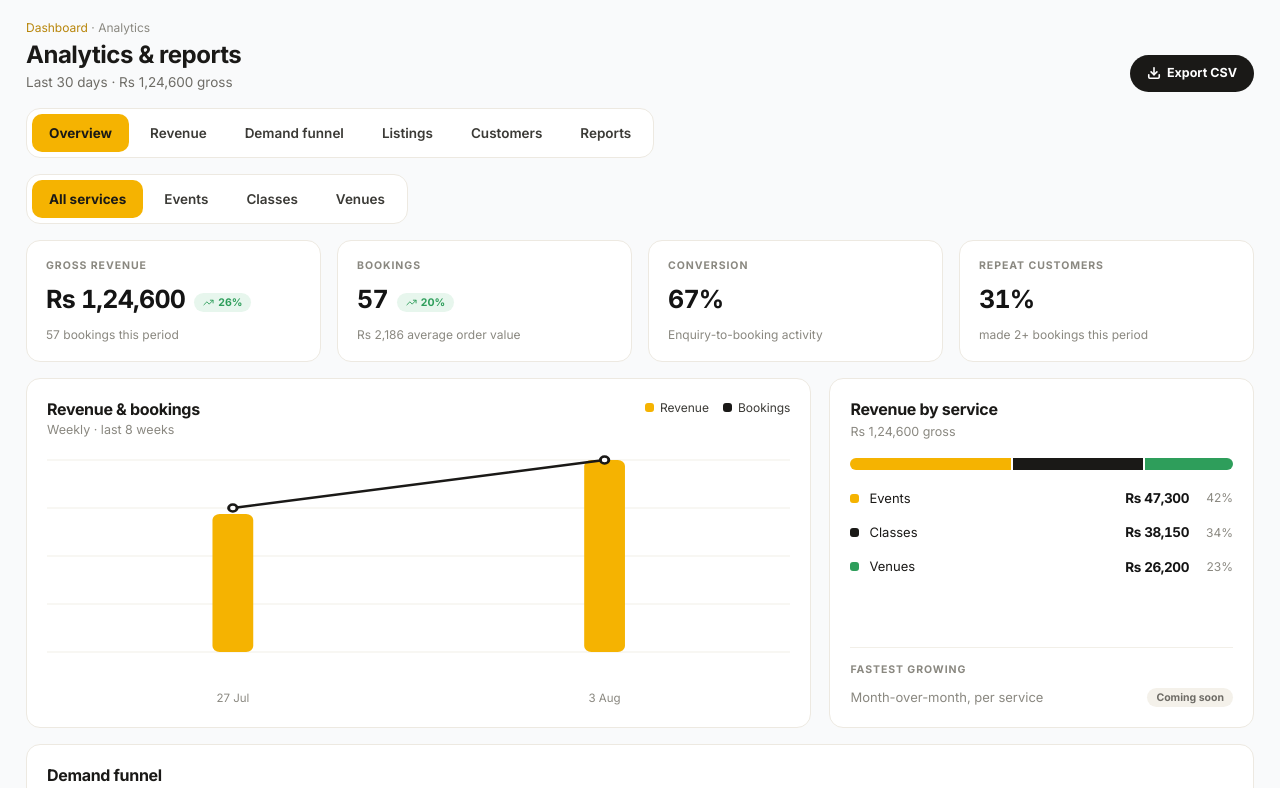
Test: Analytics — Overview tab (stats/overview-all/) › hides the literal conversion rate on the Events scope instead of showing a permanent 0%
This screenshot has width=1280, height=788.
Check: the text "Revenue by service" is shown, box [850, 399, 998, 419]
Click the tab "Events" at (186, 199), box [147, 180, 225, 218]
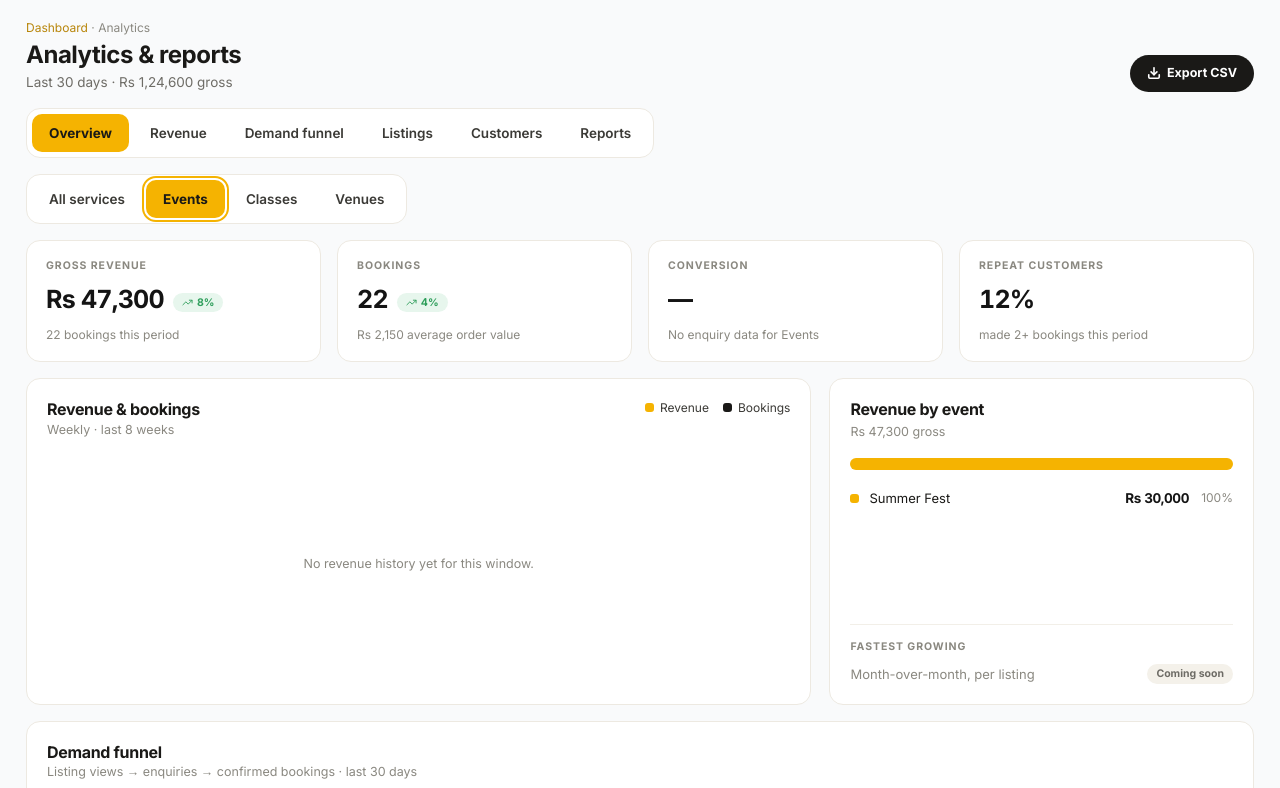
Check: the text "No enquiry data for Events" is shown, box [668, 327, 819, 342]
